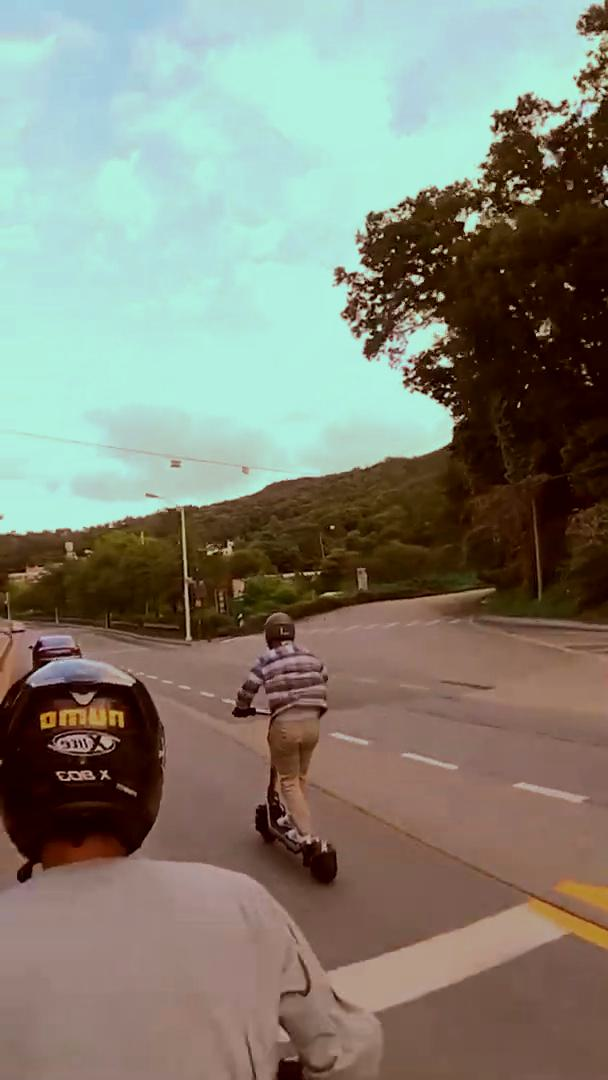helmet: (221, 606, 352, 894)
